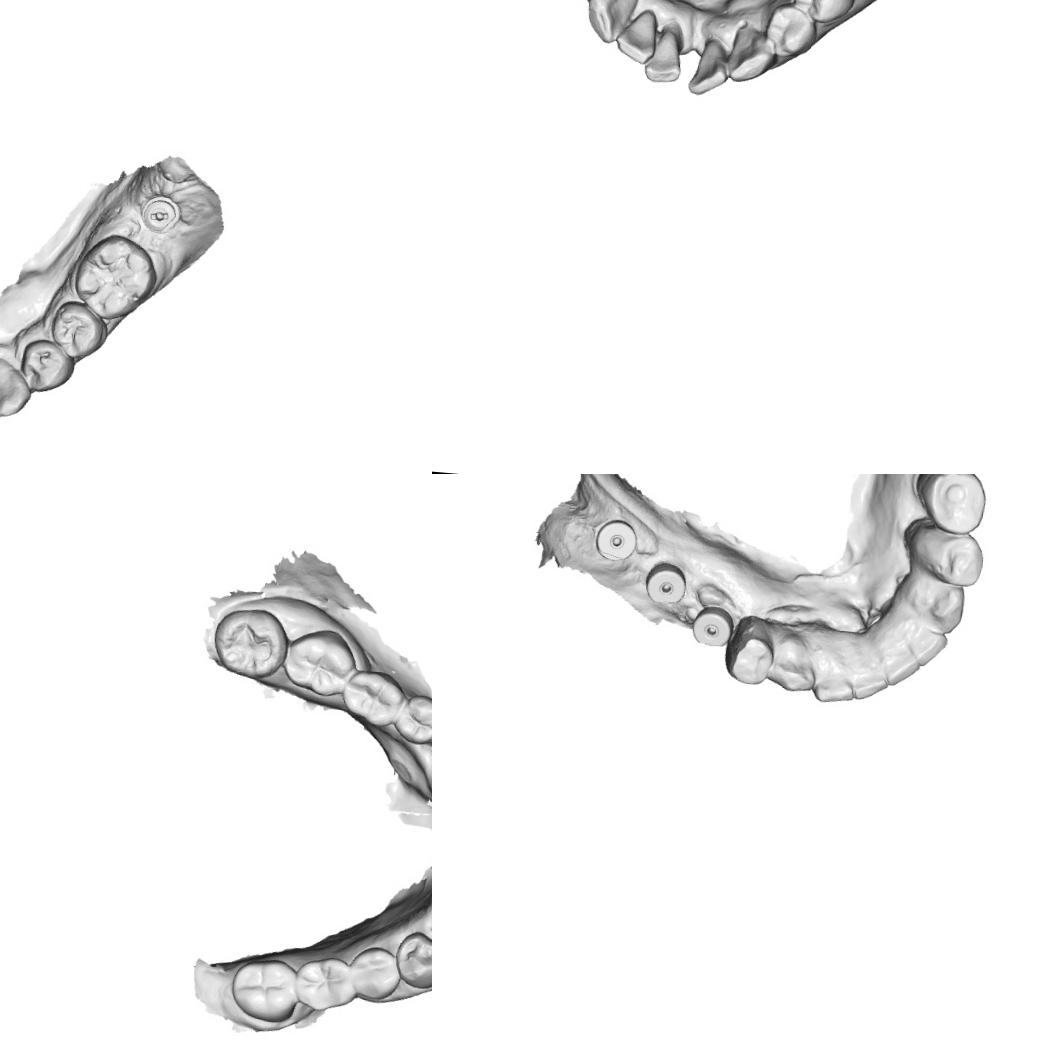canine: (768, 625, 816, 696), (727, 22, 778, 86), (914, 575, 967, 632), (582, 0, 641, 46), (0, 356, 34, 421)
implant: (592, 518, 636, 564), (644, 561, 683, 605), (692, 606, 732, 646)
implant_minus: (137, 192, 184, 236)
incisor: (613, 4, 659, 66), (685, 36, 730, 98), (642, 27, 684, 84), (878, 642, 922, 690), (906, 625, 949, 668), (811, 666, 854, 706), (849, 658, 888, 700)
molar: (69, 230, 160, 323), (208, 603, 290, 683), (280, 624, 358, 700), (227, 952, 299, 1024), (339, 664, 408, 730), (291, 952, 357, 1016)
premolar: (908, 520, 988, 587), (917, 474, 988, 535), (47, 299, 110, 362), (724, 618, 776, 689), (17, 336, 77, 396), (762, 1, 820, 60), (348, 943, 402, 1005), (391, 927, 432, 992), (390, 691, 432, 748), (787, 0, 857, 26)
